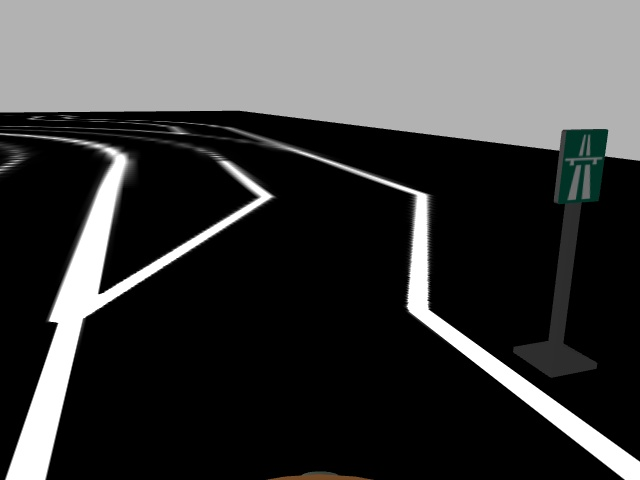enter_highway: (552, 128, 609, 206)
